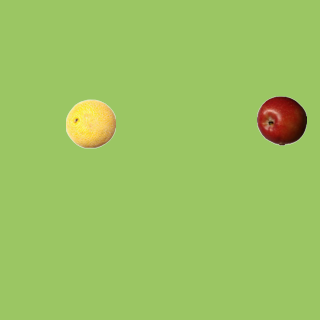Apple Braeburn: (256, 95, 306, 145)
Cantaloupe 1: (65, 98, 115, 148)
